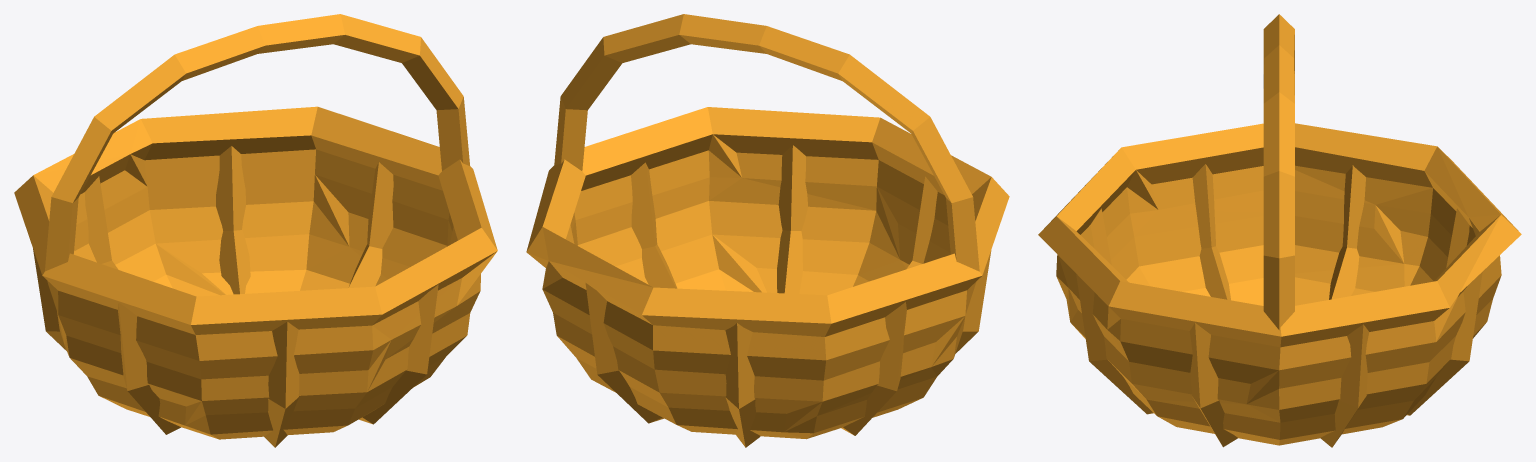
File: SM_Basket_C_Farm.fbx
3 views of the same model, side by side, from view 1: azimuth 30°, elevation 25°; view 2: azimuth 150°, elevation 25°; view 3: azimuth 270°, elevation 25° (orthographic). The views are drawn at different scales.
Visible parts, largest first — view 1: basket-c-farm; view 2: basket-c-farm; view 3: basket-c-farm.
Boxes of the visible parts, left/top/right/bottom form: basket-c-farm: left=14, top=14, right=497, bottom=447; basket-c-farm: left=526, top=14, right=1009, bottom=447; basket-c-farm: left=1038, top=14, right=1521, bottom=447.
Size of the model in its own units: 0.423 by 0.338 by 0.4254.
